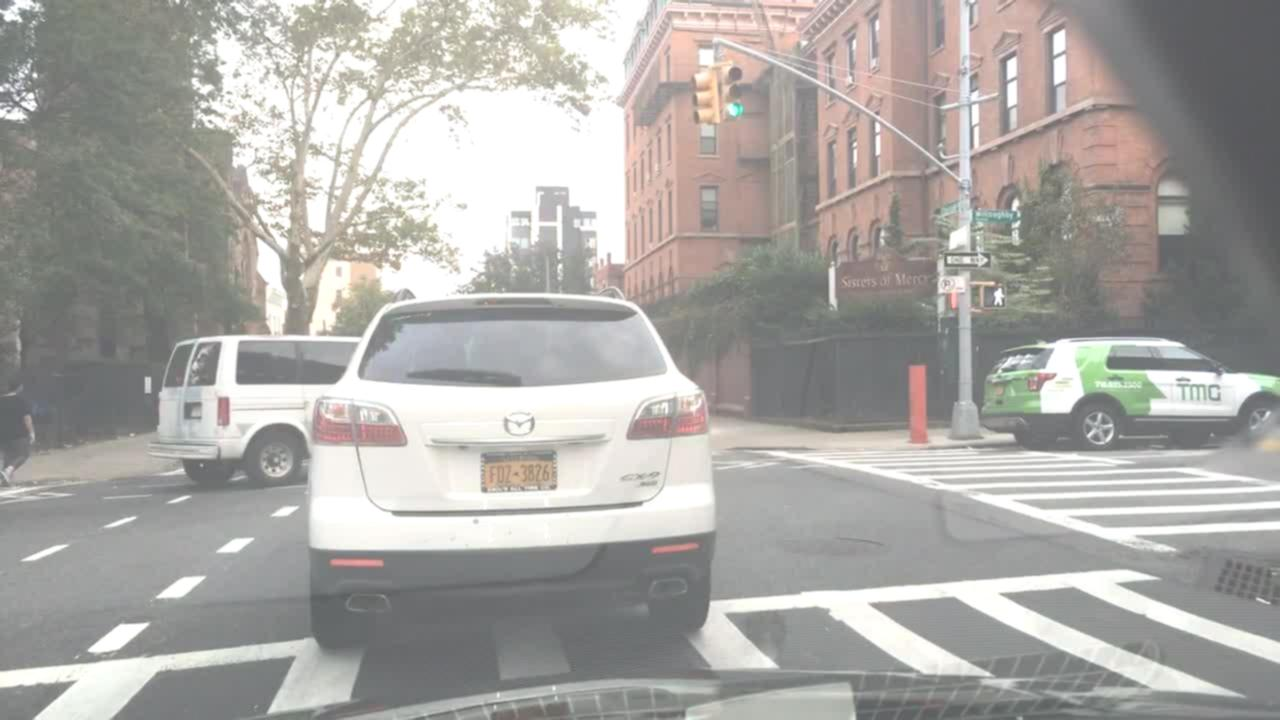Mazda: (497, 405, 540, 445)
